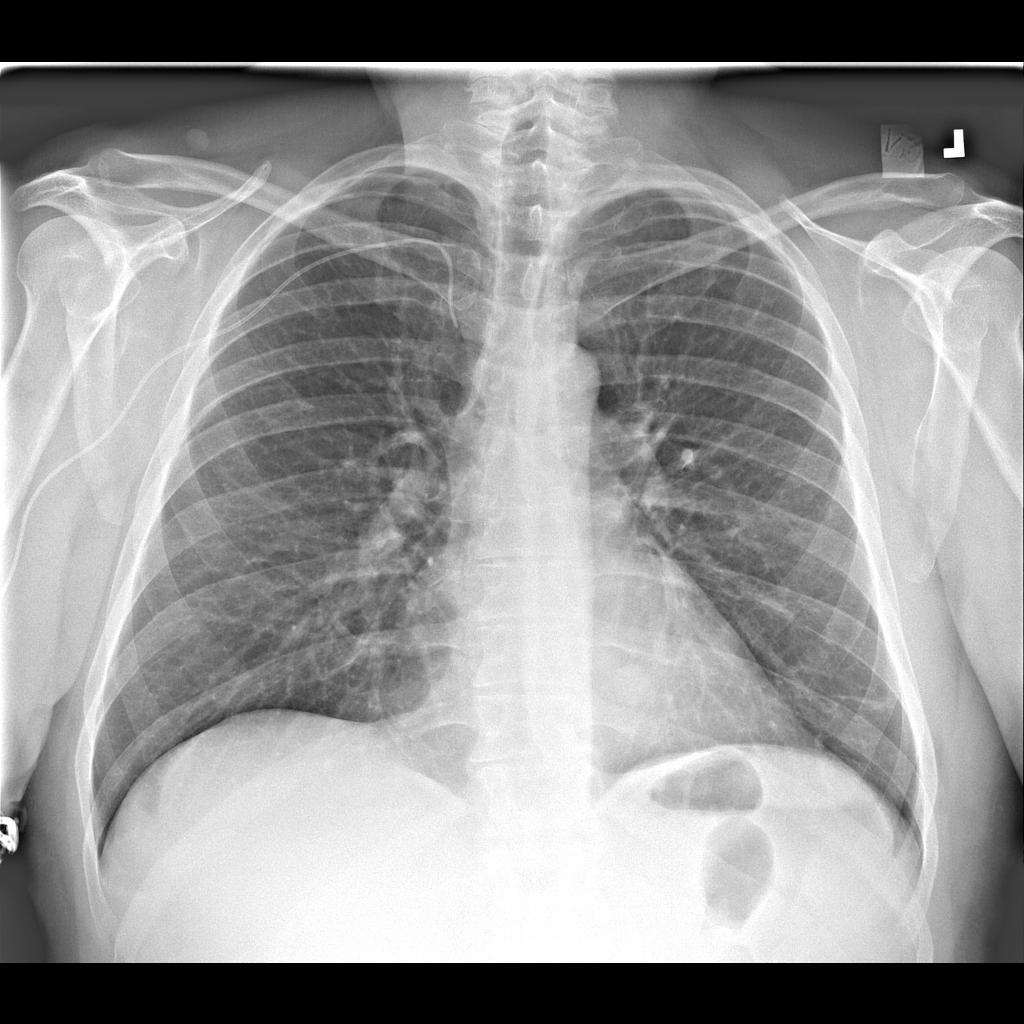Nodule: (600, 646, 662, 715)
